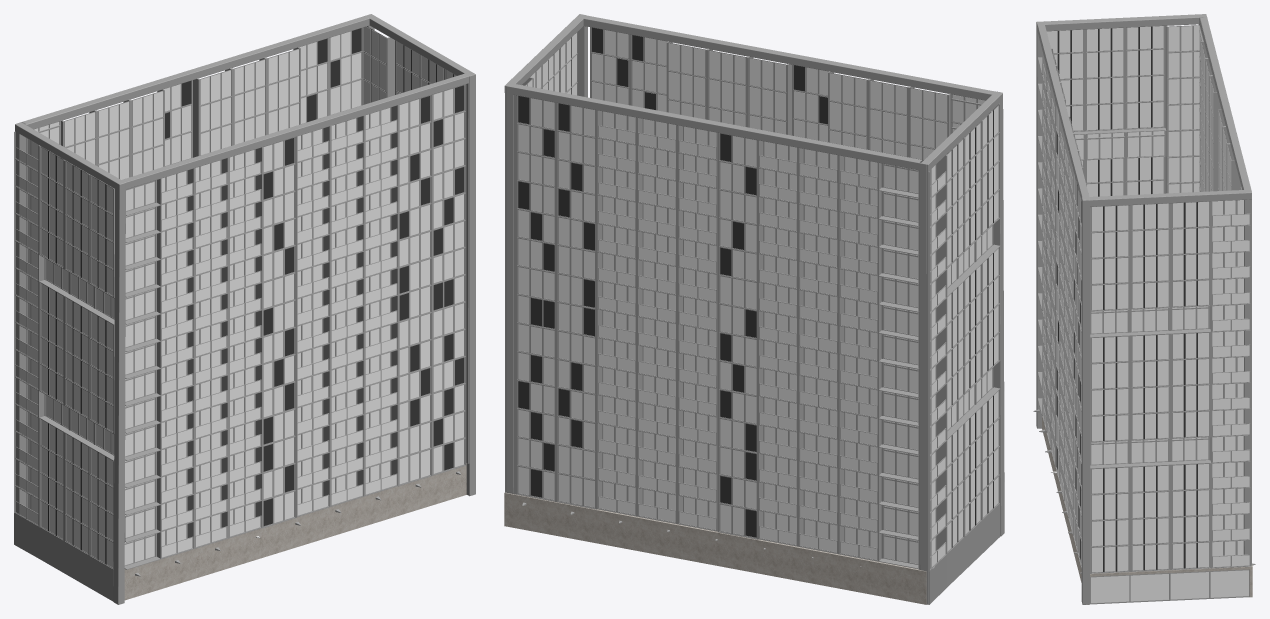
The model's file is realcity_07.gltf.
3 renders of one model, left to right at view 1: azimuth 30°, elevation 25°; view 2: azimuth 150°, elevation 25°; view 3: azimuth 270°, elevation 25°, orthographic. The views are drawn at different scales.
Parts seen in each view (by area): view 1: realcity_07; view 2: realcity_07; view 3: realcity_07.
Boxes of the visible parts, x1=… form: realcity_07: x1=14, y1=14, x2=475, y2=604; realcity_07: x1=504, y1=14, x2=1004, y2=604; realcity_07: x1=1033, y1=14, x2=1255, y2=604.
Size of the model in its own units: 42.89 by 43.27 by 21.55.
5 materials, 1 textured.
